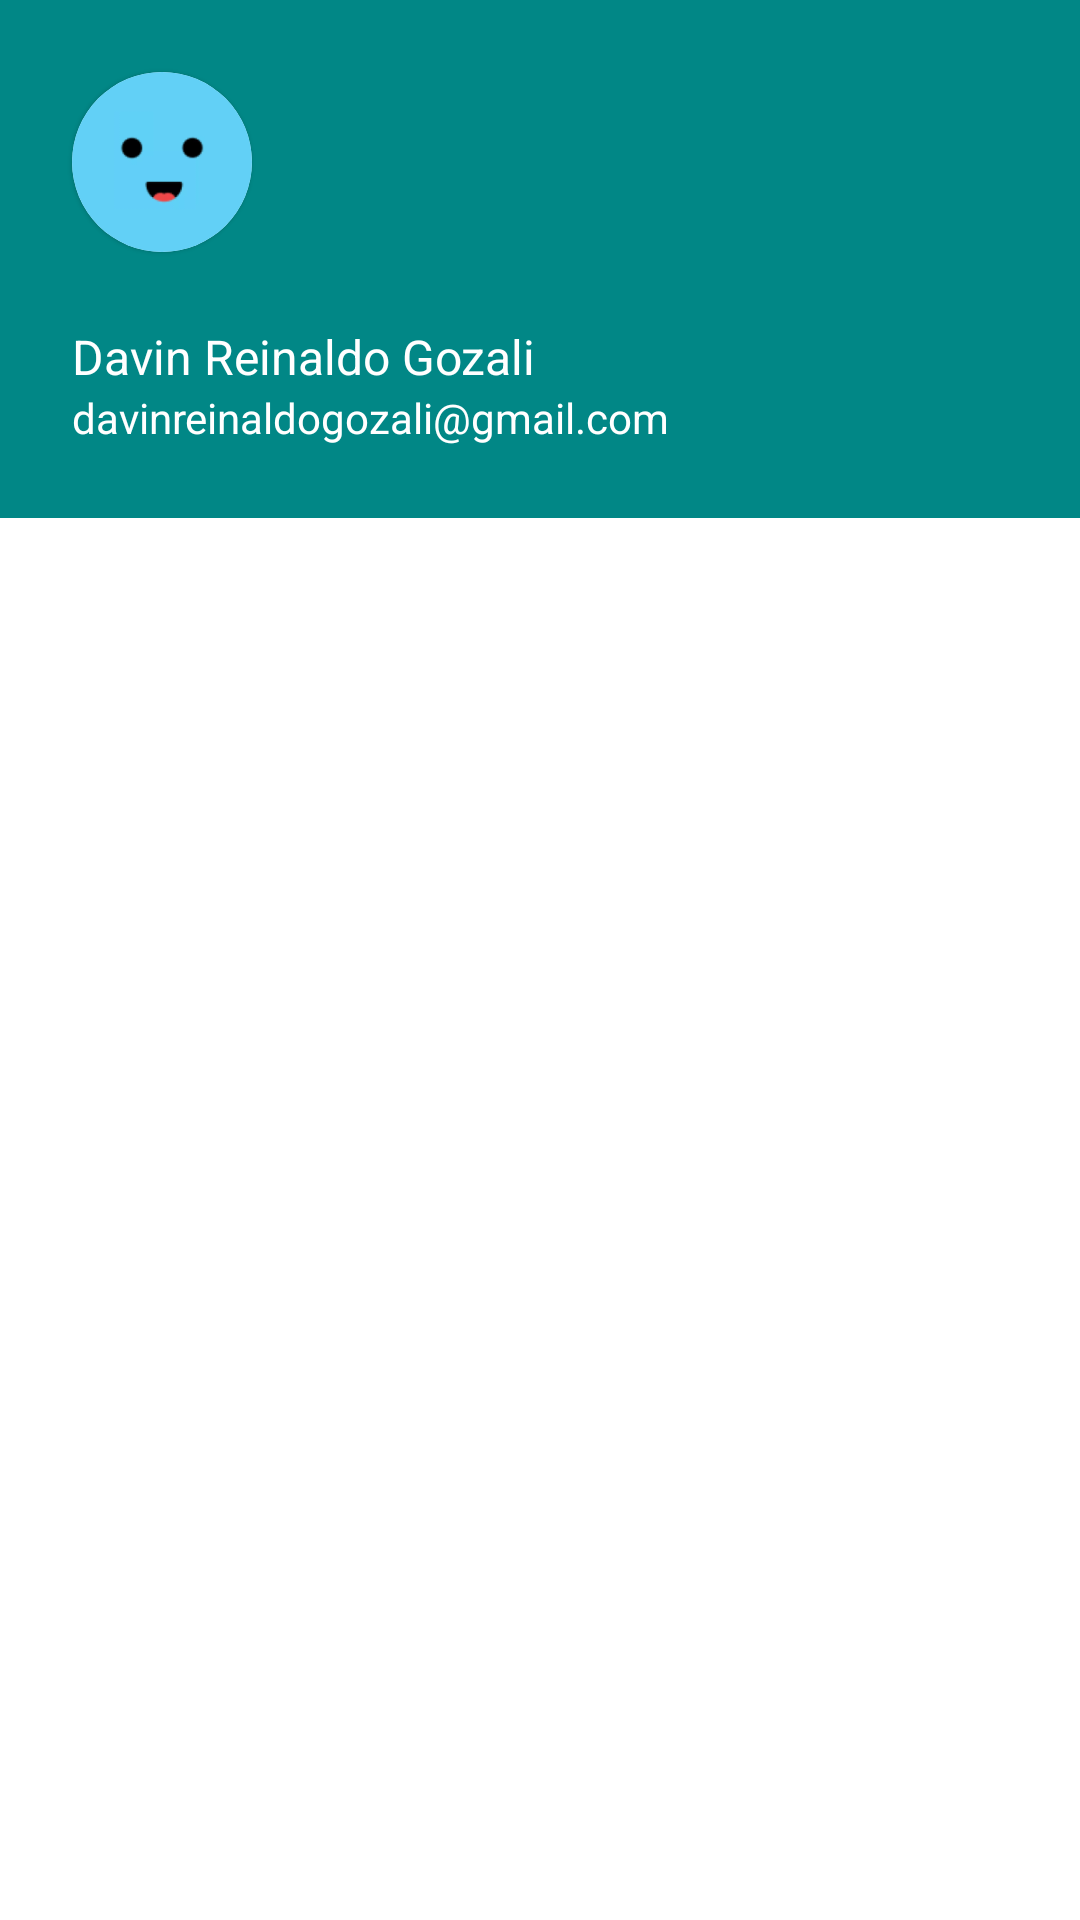

Icons on this 1080 × 1920 Android screen, each with its box as (x1, y1, x2, y2):
user avatar icon: (72, 72, 252, 252)
